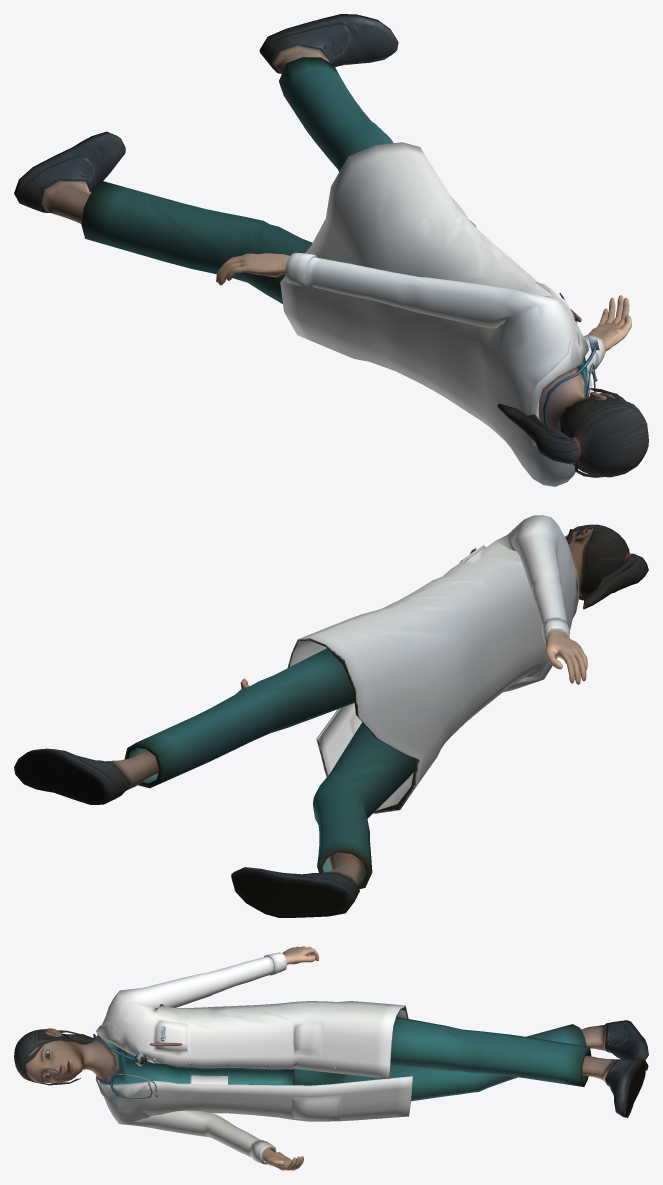
Rendered from walk.obj.
The picture shows the model from 3 angles, top to bottom: view 1: azimuth 30°, elevation 25°; view 2: azimuth 150°, elevation 25°; view 3: azimuth 270°, elevation 25°; orthographic projection. The views are drawn at different scales.
Size of the model in its own units: 0.8632 by 0.3724 by 1.7.
1 material, 1 textured.
